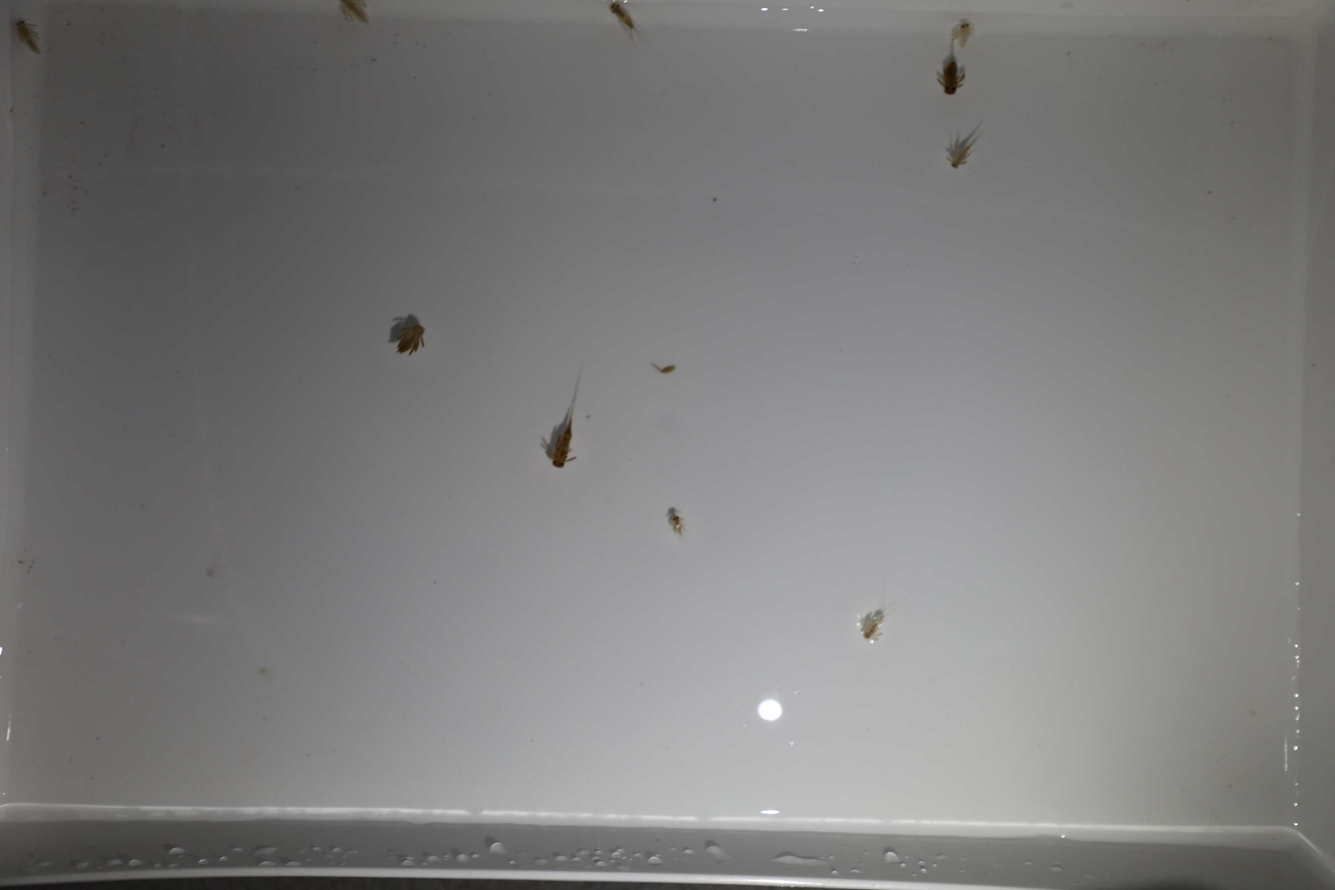Mayfly: (538, 360, 588, 479), (940, 121, 987, 177), (601, 0, 651, 46), (5, 17, 51, 63), (388, 307, 426, 358), (935, 48, 968, 96), (859, 603, 895, 644), (664, 502, 695, 543), (949, 15, 982, 50), (330, 0, 373, 25)
